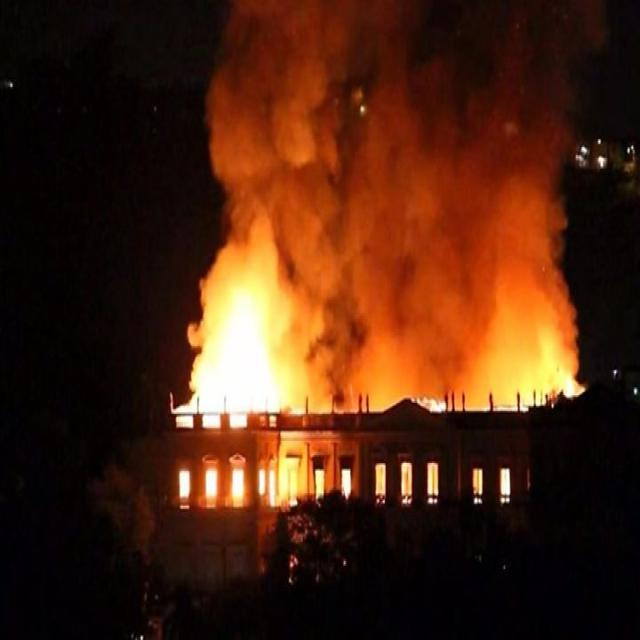fire: (166, 270, 580, 522)
